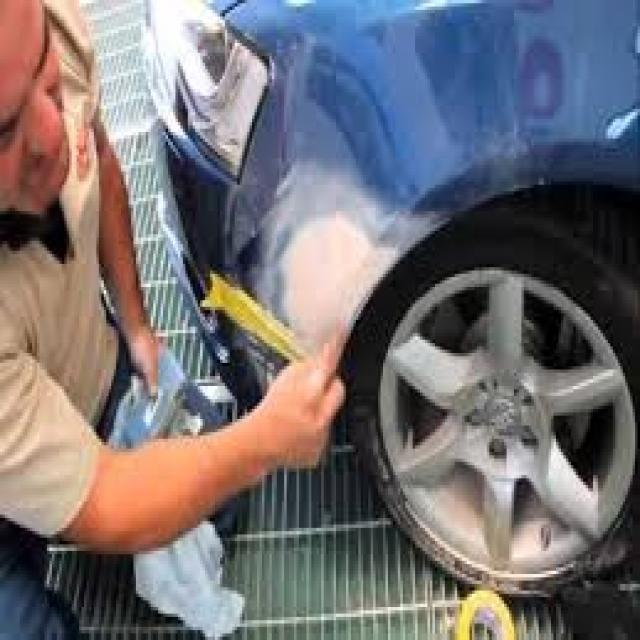dent-or-scratch: (266, 181, 394, 338)
